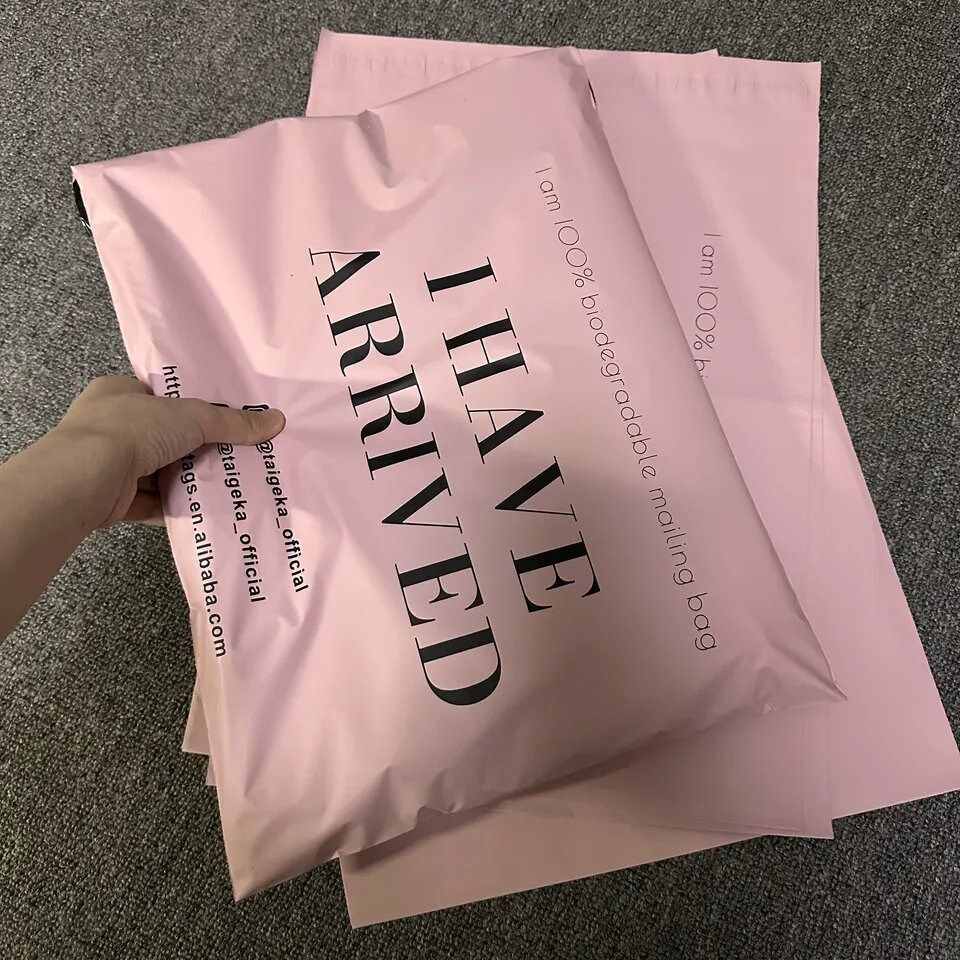Parcel: (67, 16, 922, 932)
